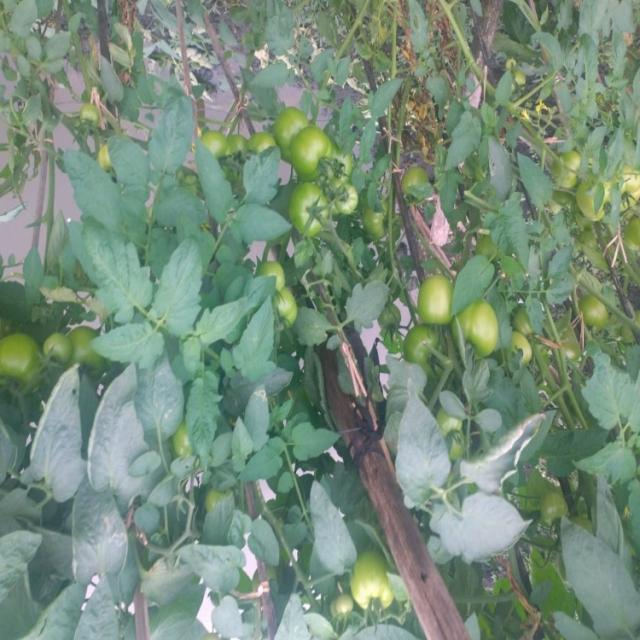tomato: (281, 119, 340, 184), (348, 557, 402, 616), (59, 309, 104, 379), (286, 181, 334, 243), (457, 299, 508, 354), (414, 268, 456, 334), (1, 324, 43, 383), (395, 322, 440, 373), (194, 121, 241, 169), (331, 169, 369, 227), (575, 176, 616, 229), (266, 284, 304, 333), (35, 312, 70, 365), (501, 328, 540, 369), (359, 203, 394, 247), (539, 488, 572, 533), (256, 256, 296, 293), (271, 108, 317, 139), (581, 295, 608, 339), (613, 167, 640, 211), (404, 162, 429, 199)
